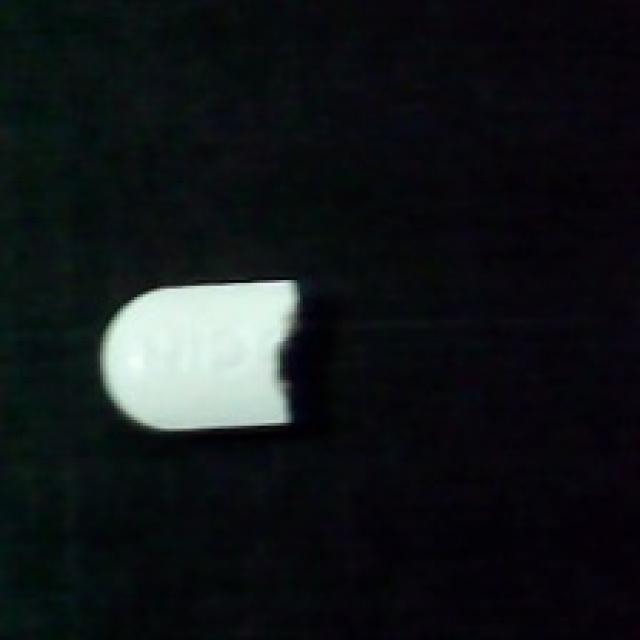defected: (97, 277, 306, 443)
